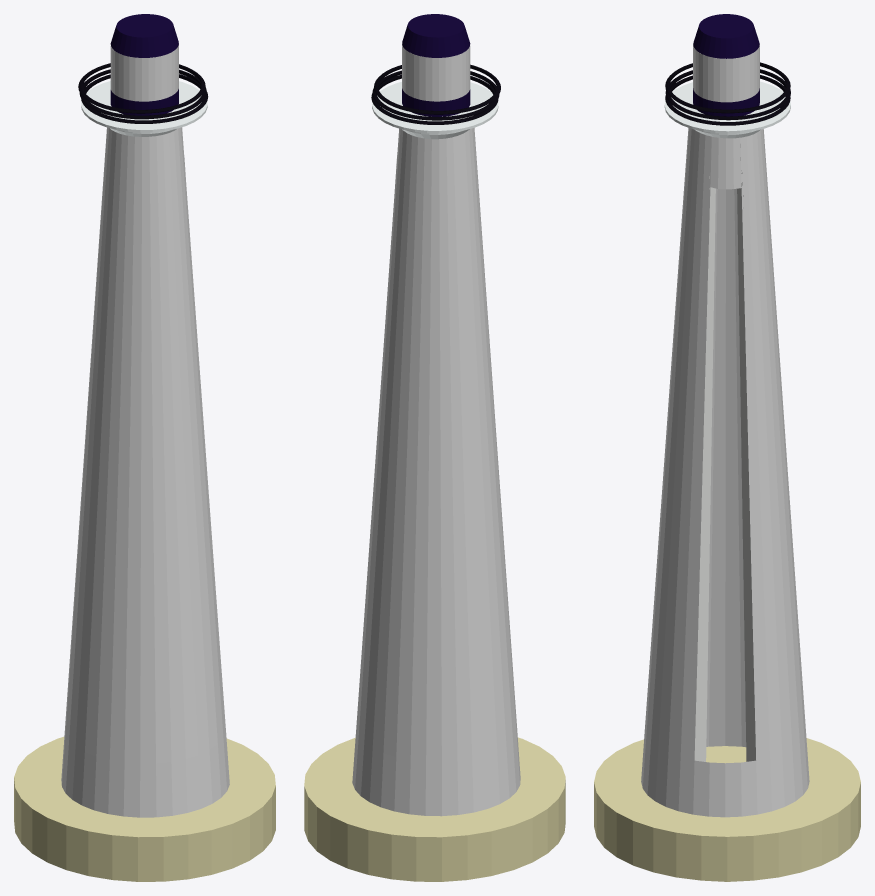
Rendered from Phare2.fbx.
3 renders of one model, left to right at view 1: azimuth 30°, elevation 25°; view 2: azimuth 150°, elevation 25°; view 3: azimuth 270°, elevation 25°, orthographic.
Visible parts, largest first — view 1: Capuchon; view 2: Capuchon; view 3: Capuchon.
Part boxes in pixels (x1,y1,x2,y2): Capuchon: [14, 14, 275, 881]; Capuchon: [304, 14, 565, 881]; Capuchon: [594, 14, 860, 881].
Size of the model in its own units: 2176 by 7384 by 2232.
